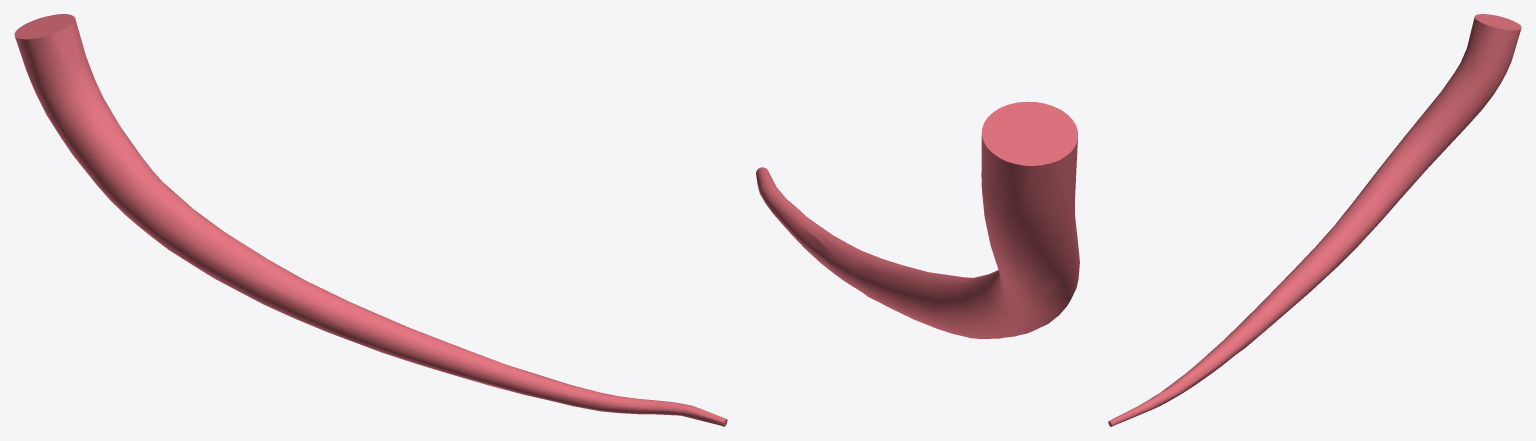
The model's file is fma4713_mm449.glb.
3 renders of one model, left to right at view 1: azimuth 30°, elevation 25°; view 2: azimuth 150°, elevation 25°; view 3: azimuth 270°, elevation 25°, orthographic. The views are drawn at different scales.
Parts seen in each view (by area): view 1: FMA4713_MM449; view 2: FMA4713_MM449; view 3: FMA4713_MM449.
Boxes of the visible parts, bbox=[...] form: FMA4713_MM449: bbox=[14, 14, 727, 426]; FMA4713_MM449: bbox=[756, 101, 1079, 338]; FMA4713_MM449: bbox=[1108, 14, 1521, 426].
Bounding box in the file's own units: 0.0365 × 0.0249 × 0.0372.
